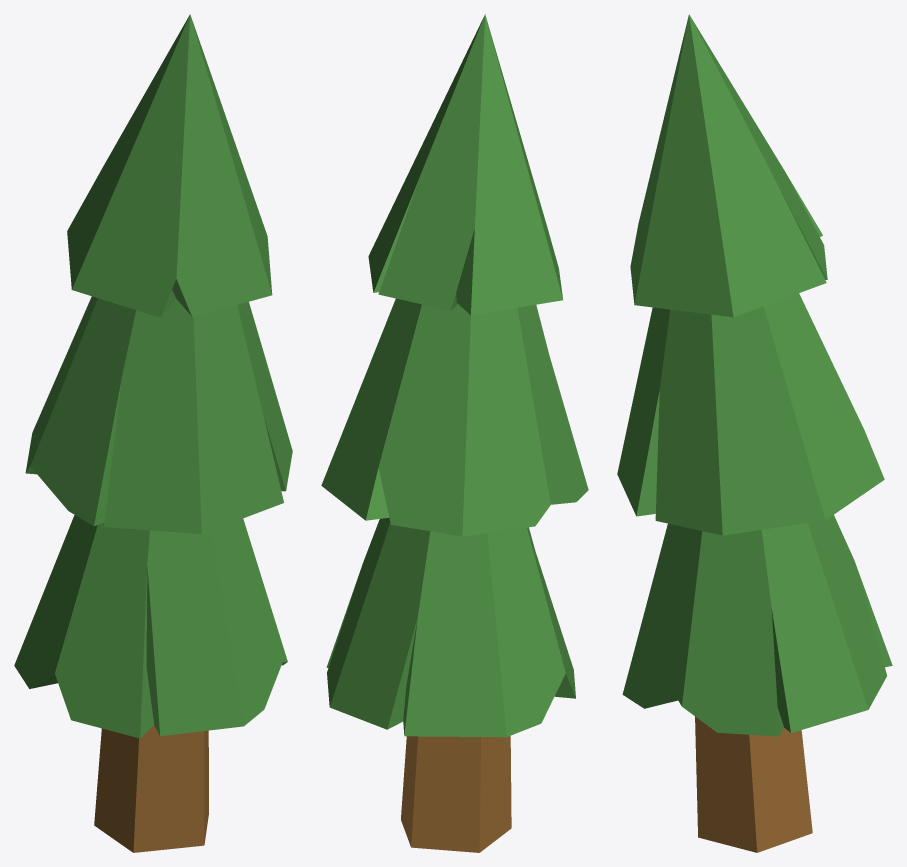
File: Tree_1.fbx
The picture shows the model from 3 angles, left to right: view 1: azimuth 30°, elevation 25°; view 2: azimuth 150°, elevation 25°; view 3: azimuth 270°, elevation 25°; orthographic projection. The views are drawn at different scales.
Parts seen in each view (by area): view 1: Cone.005; view 2: Cone.005; view 3: Cone.005.
Part boxes in pixels (x1,y1,x2,y2): Cone.005: (14, 14, 292, 852); Cone.005: (321, 14, 588, 852); Cone.005: (617, 14, 892, 852).
Bounding box in the file's own units: 109 × 371 × 114.
